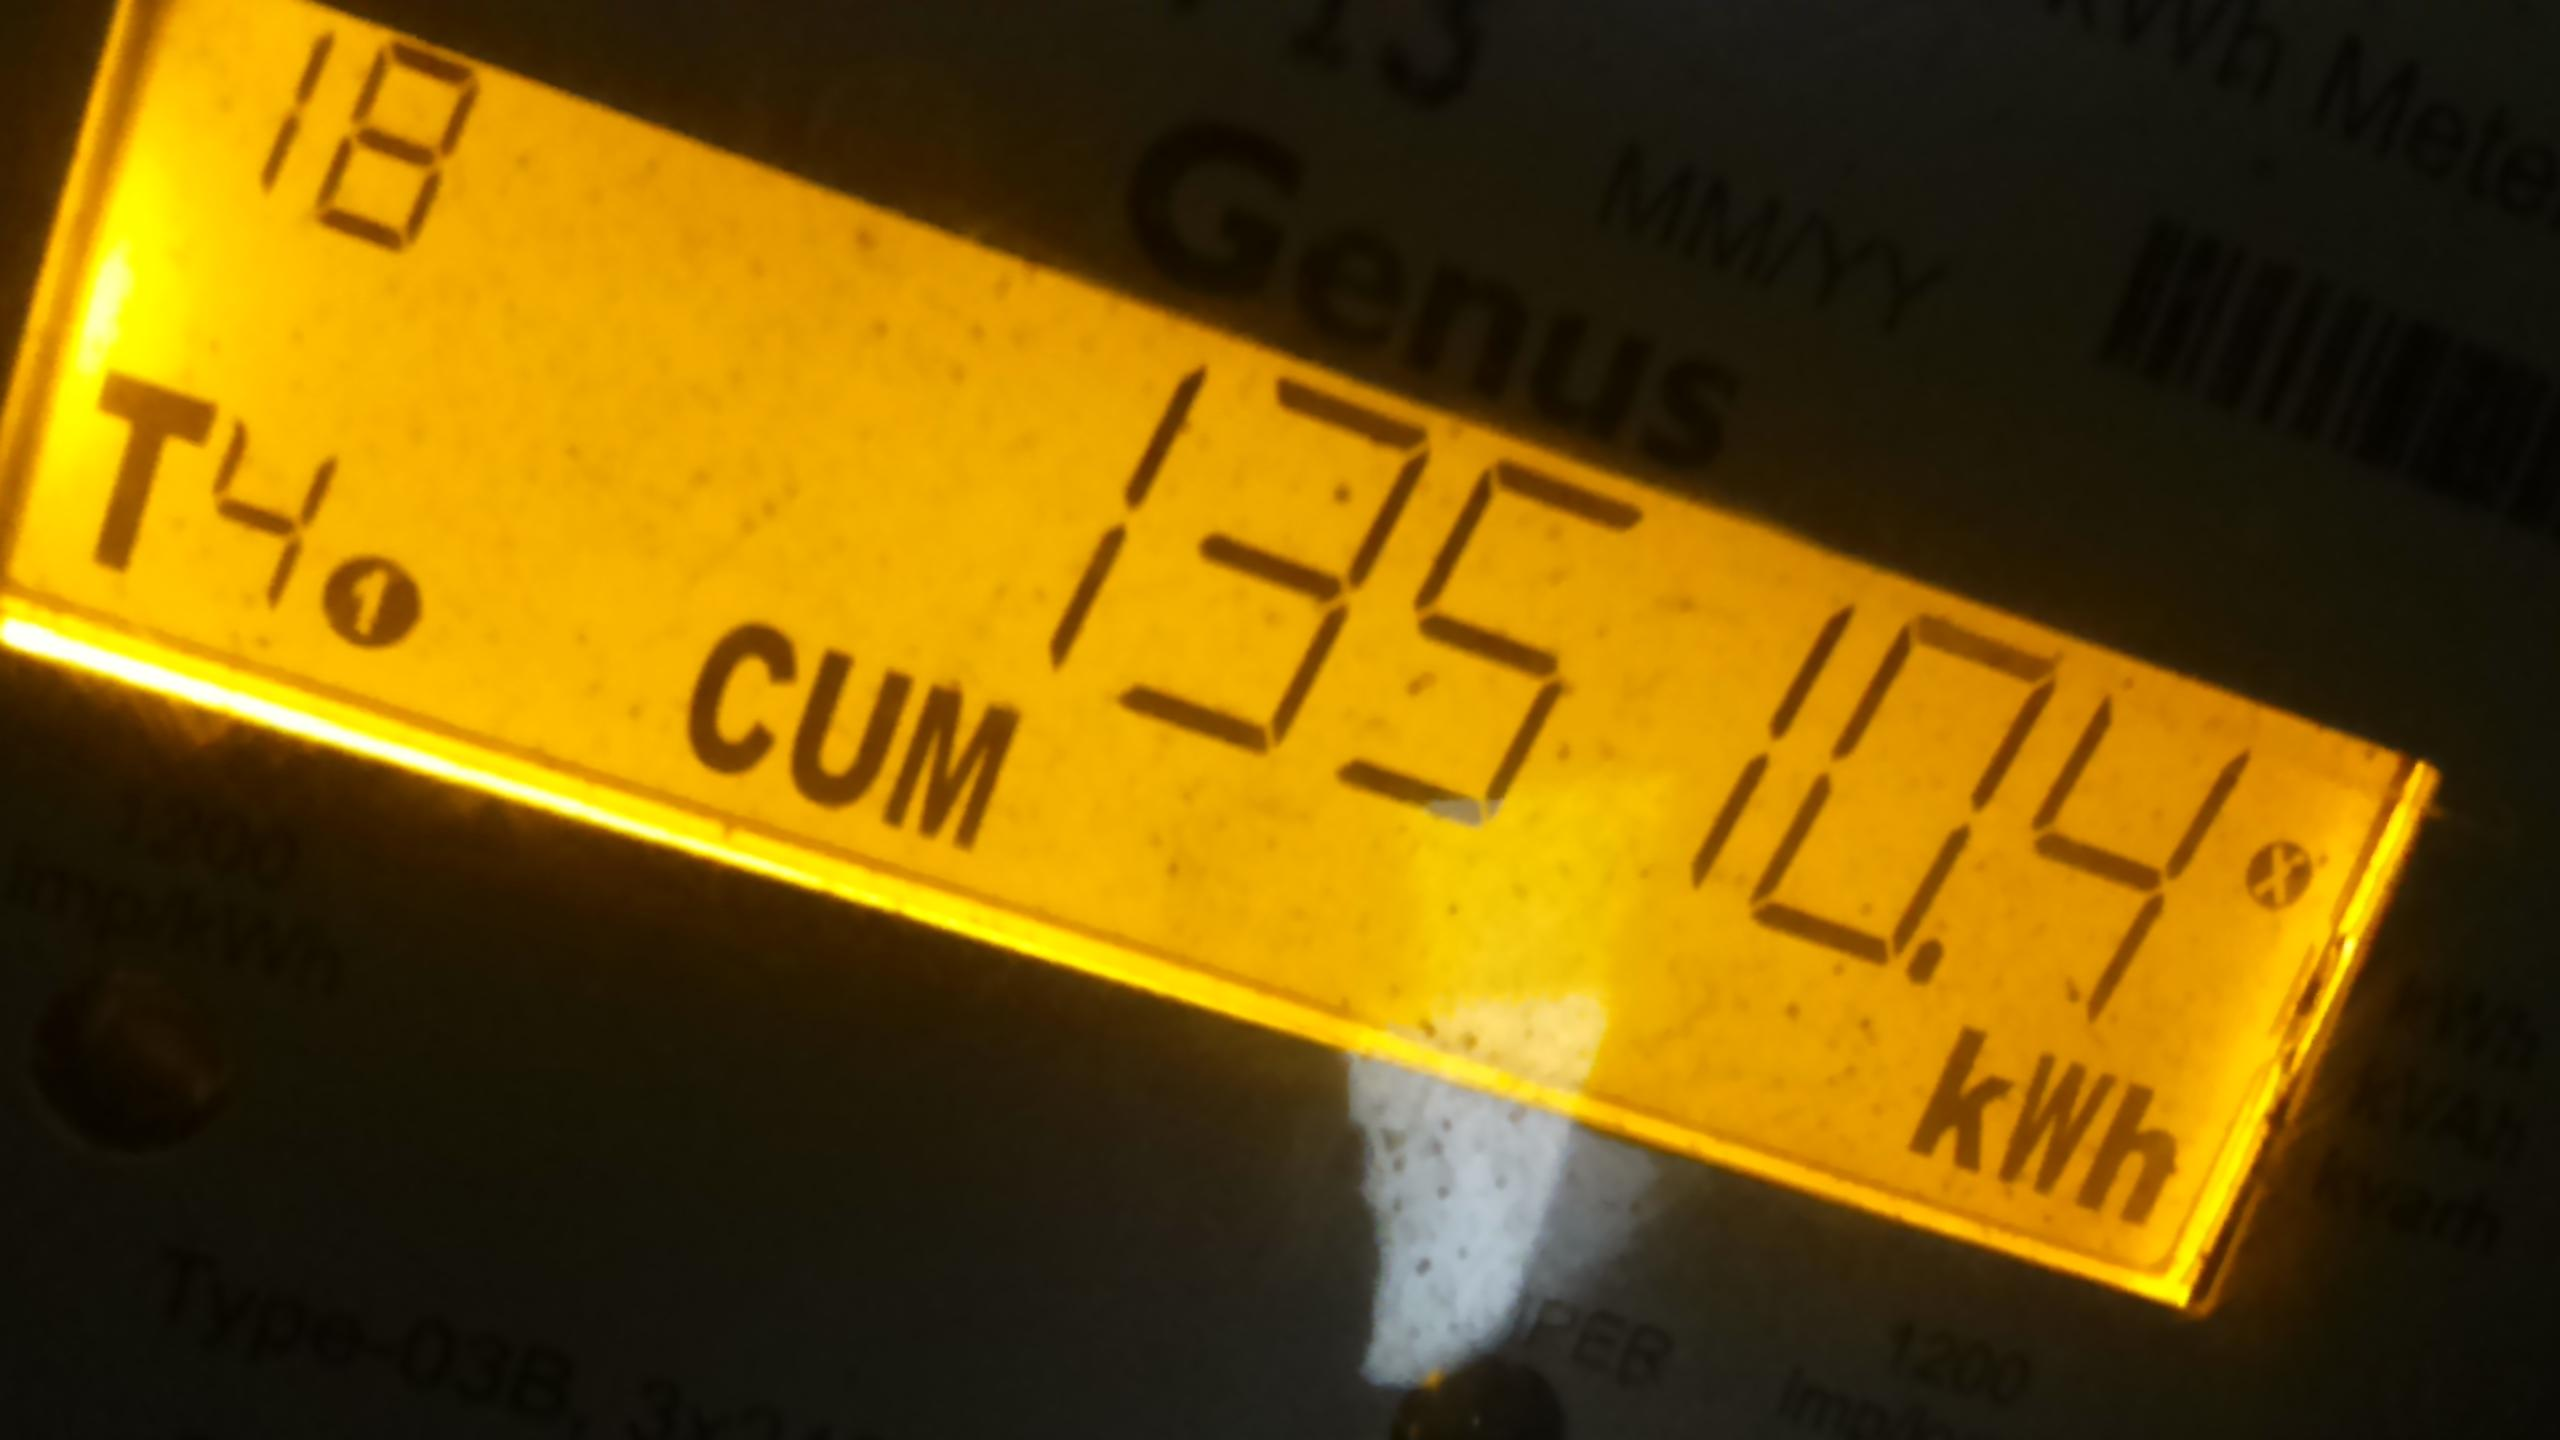.: (1890, 1018, 2194, 1231)
0: (1890, 918, 1971, 992)
1: (1727, 563, 2033, 988)
2: (995, 313, 1247, 679), (1663, 527, 1881, 935)
4: (1115, 334, 1458, 793)
5: (2017, 658, 2272, 1025)
6: (1320, 454, 1642, 835)
